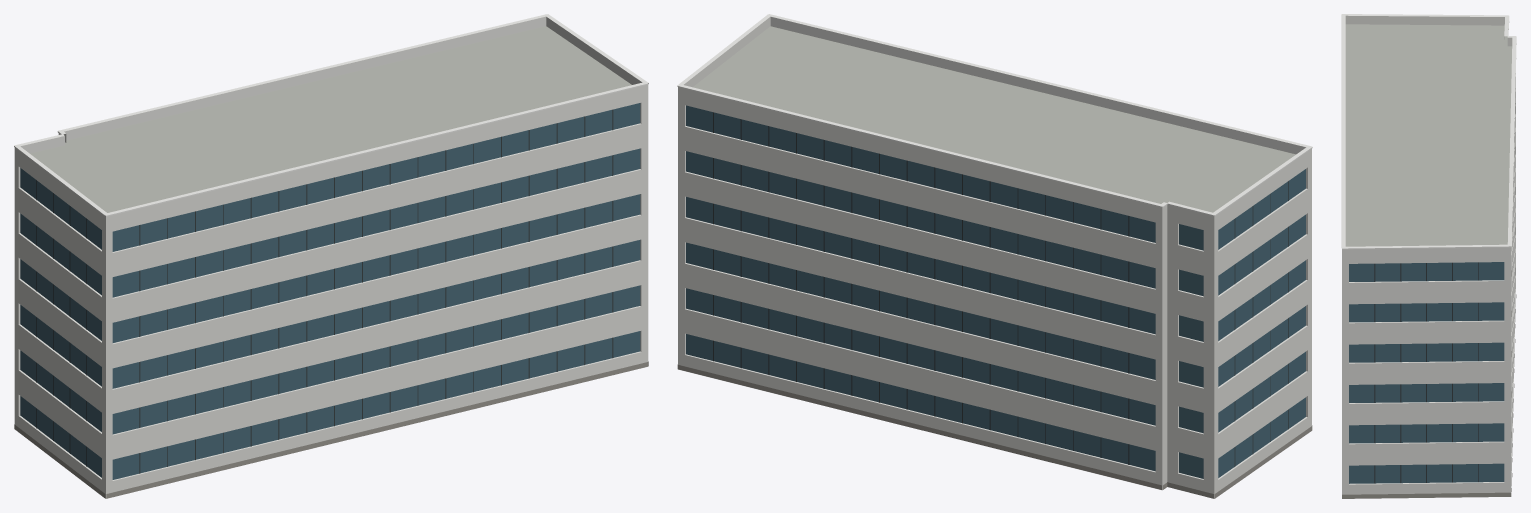
3 renders of one model, left to right at view 1: azimuth 30°, elevation 25°; view 2: azimuth 150°, elevation 25°; view 3: azimuth 270°, elevation 25°, orthographic. The views are drawn at different scales.
Parts seen in each view (by area): view 1: hospitalEastB__wall, hospitalEastB__glass, hospitalEastB__roof, hospitalEastB__parapet, hospitalEastB__trim, hospitalEastB__frame, hospitalEastB__base; view 2: hospitalEastB__wall, hospitalEastB__glass, hospitalEastB__roof, hospitalEastB__parapet, hospitalEastB__trim, hospitalEastB__frame, hospitalEastB__base; view 3: hospitalEastB__roof, hospitalEastB__wall, hospitalEastB__glass, hospitalEastB__trim, hospitalEastB__parapet, hospitalEastB__base, hospitalEastB__frame.
Part boxes in pixels (x1,y1,x2,y2): hospitalEastB__wall: (14, 93, 648, 498); hospitalEastB__glass: (20, 103, 640, 479); hospitalEastB__roof: (30, 26, 631, 498); hospitalEastB__parapet: (14, 16, 648, 224); hospitalEastB__trim: (14, 14, 648, 216); hospitalEastB__frame: (36, 109, 613, 473); hospitalEastB__base: (14, 361, 648, 498); hospitalEastB__wall: (678, 95, 1311, 498); hospitalEastB__glass: (686, 105, 1305, 478); hospitalEastB__roof: (693, 26, 1295, 498); hospitalEastB__parapet: (678, 16, 1311, 224); hospitalEastB__trim: (677, 14, 1312, 216); hospitalEastB__frame: (713, 112, 1288, 466); hospitalEastB__base: (677, 364, 1312, 498); hospitalEastB__roof: (1345, 24, 1512, 498); hospitalEastB__wall: (1342, 74, 1515, 494); hospitalEastB__glass: (1349, 262, 1504, 483); hospitalEastB__trim: (1341, 14, 1516, 249); hospitalEastB__parapet: (1342, 15, 1512, 256); hospitalEastB__base: (1342, 294, 1516, 498); hospitalEastB__frame: (1374, 262, 1478, 483).
Size of the model in its own units: 47.39 by 23.62 by 14.97.
